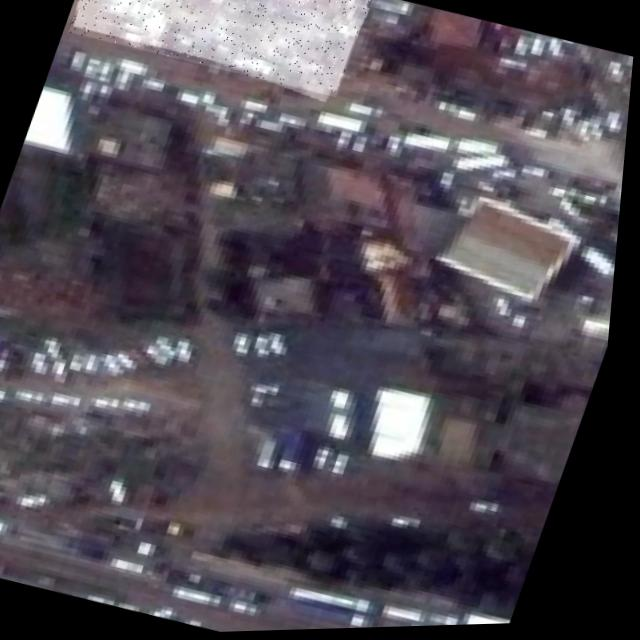Rubble: (64, 0, 373, 104)
